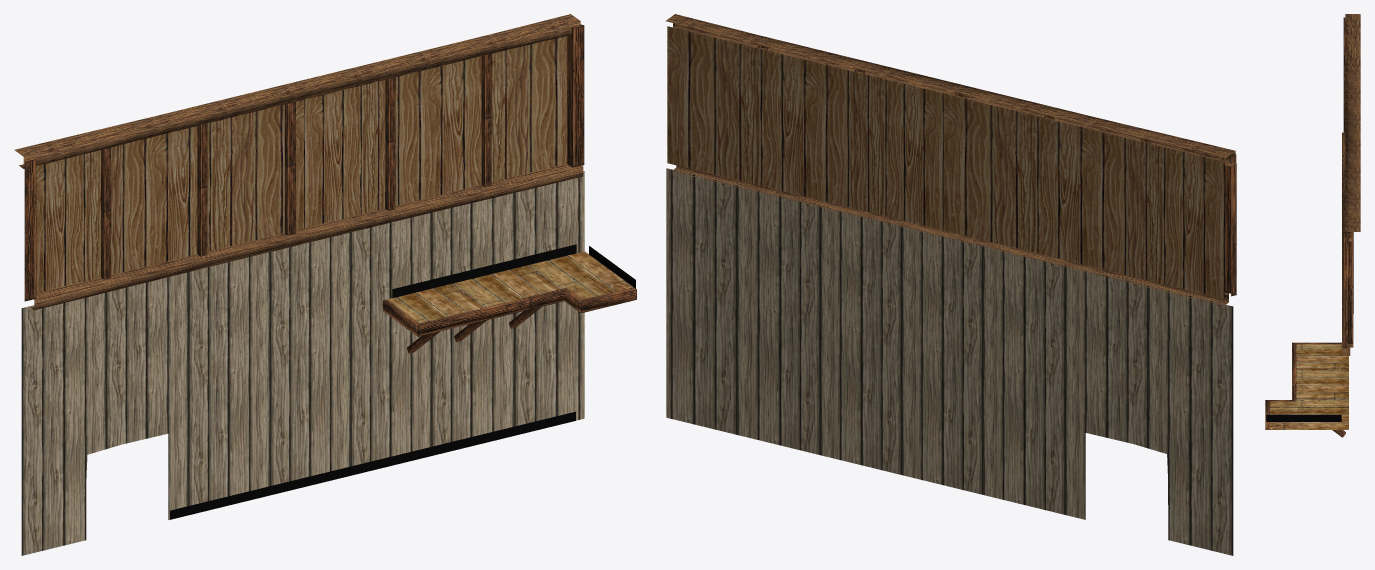
File: LAKETOWN_WAREHOUSE1_PS_WH1_SIDEWALL6621__GX.fbx
3 views of the same model, side by side, from view 1: azimuth 30°, elevation 25°; view 2: azimuth 150°, elevation 25°; view 3: azimuth 270°, elevation 25° (orthographic). The views are drawn at different scales.
Visible parts, largest first — view 1: LAKETOWN_WAREHOUSE1_PS_WH1_SIDEWALL6621__GX; view 2: LAKETOWN_WAREHOUSE1_PS_WH1_SIDEWALL6621__GX; view 3: LAKETOWN_WAREHOUSE1_PS_WH1_SIDEWALL6621__GX.
Part boxes in pixels (<box>): LAKETOWN_WAREHOUSE1_PS_WH1_SIDEWALL6621__GX: <box>14,14,636,555</box>; LAKETOWN_WAREHOUSE1_PS_WH1_SIDEWALL6621__GX: <box>665,14,1236,555</box>; LAKETOWN_WAREHOUSE1_PS_WH1_SIDEWALL6621__GX: <box>1265,14,1360,437</box>.
Bounding box in the file's own units: 195235 × 132735 × 35778.
6 materials, 6 textured.
